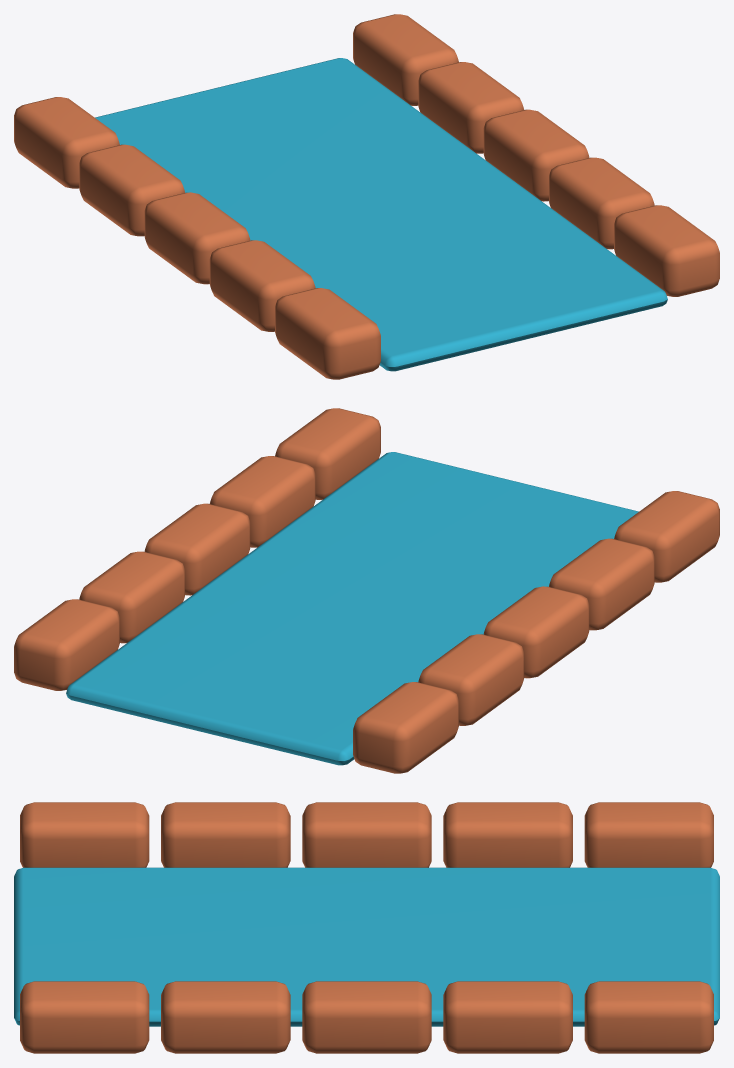
File: BSC-20.glb
3 renders of one model, top to bottom at view 1: azimuth 30°, elevation 25°; view 2: azimuth 150°, elevation 25°; view 3: azimuth 270°, elevation 25°, orthographic. The views are drawn at different scales.
Visible parts, largest first — view 1: water, water bank, water bank.005, water bank.002, water bank.003, water bank.001, water bank.004, water bank.007, water bank.008, water bank.009, water bank.006; view 2: water, water bank.004, water bank.009, water bank.002, water bank.001, water bank, water bank.003, water bank.007, water bank.006, water bank.005, water bank.008; view 3: water, water bank.007, water bank.006, water bank.008, water bank.005, water bank.009, water bank.002, water bank, water bank.001, water bank.003, water bank.004.
Boxes of the visible parts, bbox=[...] form: water: bbox=[95, 58, 667, 371]; water bank: bbox=[275, 288, 380, 379]; water bank.005: bbox=[614, 205, 719, 296]; water bank.002: bbox=[144, 192, 250, 284]; water bank.003: bbox=[79, 144, 184, 236]; water bank.001: bbox=[209, 240, 315, 331]; water bank.004: bbox=[14, 97, 119, 188]; water bank.007: bbox=[483, 109, 589, 201]; water bank.008: bbox=[418, 62, 524, 153]; water bank.009: bbox=[353, 14, 458, 105]; water bank.006: bbox=[549, 157, 654, 249]; water: bbox=[66, 452, 638, 765]; water bank.004: bbox=[353, 682, 458, 773]; water bank.009: bbox=[14, 599, 119, 690]; water bank.002: bbox=[483, 586, 589, 678]; water bank.001: bbox=[549, 538, 654, 630]; water bank: bbox=[614, 491, 719, 582]; water bank.003: bbox=[418, 634, 524, 725]; water bank.007: bbox=[144, 503, 250, 595]; water bank.006: bbox=[209, 456, 315, 547]; water bank.005: bbox=[275, 408, 380, 499]; water bank.008: bbox=[79, 551, 184, 643]; water: bbox=[14, 867, 719, 1026]; water bank.007: bbox=[302, 981, 431, 1053]; water bank.006: bbox=[161, 981, 290, 1053]; water bank.008: bbox=[443, 981, 572, 1053]; water bank.005: bbox=[20, 981, 149, 1053]; water bank.009: bbox=[584, 981, 713, 1053]; water bank.002: bbox=[302, 802, 431, 867]; water bank: bbox=[20, 802, 149, 867]; water bank.001: bbox=[161, 802, 290, 867]; water bank.003: bbox=[443, 802, 572, 867]; water bank.004: bbox=[584, 802, 713, 867].
Bounding box in the file's own units: 2.1 × 0.255 × 3.
